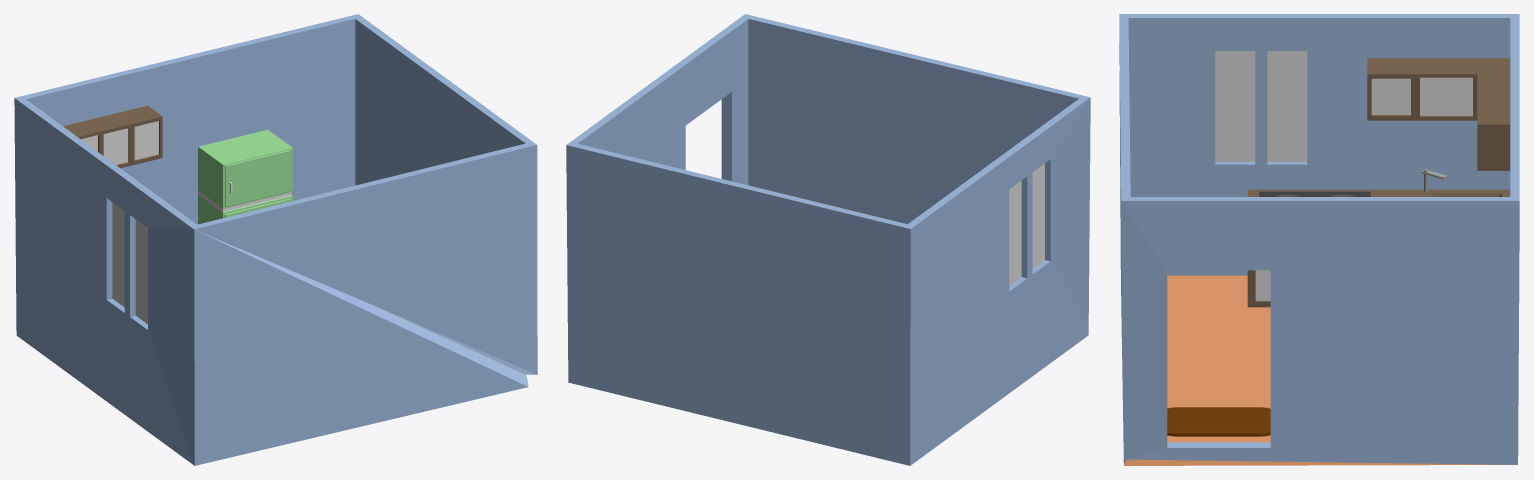
The model's file is environment.fbx.
The picture shows the model from 3 angles, left to right: view 1: azimuth 30°, elevation 25°; view 2: azimuth 150°, elevation 25°; view 3: azimuth 270°, elevation 25°; orthographic projection. The views are drawn at different scales.
Visible parts, largest first — view 1: Plane, Cube, Cube.006, Plane.001; view 2: Plane, Plane.001; view 3: Plane, Cube.006, Plane.001, Cube.003, Cube.001, Cube.002.
Part boxes in pixels (x1,y1,x2,y2): Plane: (14,14,537,465); Cube: (198,129,292,224); Cube.006: (63,105,162,168); Plane.001: (112,202,147,324); Plane: (566,14,1090,465); Plane.001: (1009,163,1044,285); Plane: (1119,14,1519,465); Cube.006: (1367,58,1510,170); Plane.001: (1215,51,1307,161); Cube.003: (1167,407,1270,436); Cube.001: (1247,189,1510,307); Cube.002: (1259,191,1370,196).
Size of the model in its own units: 2010 by 1324 by 1788.
